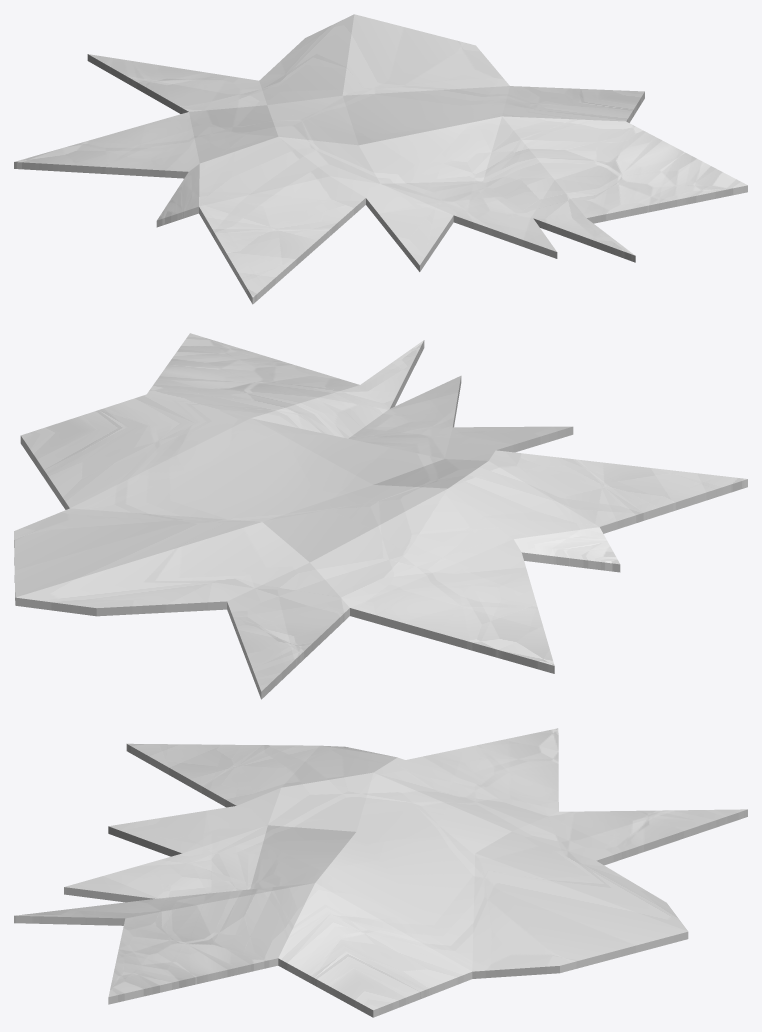
File: G_Papierfetzen02.fbx
3 views of the same model, one above another, from view 1: azimuth 30°, elevation 25°; view 2: azimuth 150°, elevation 25°; view 3: azimuth 270°, elevation 25° (orthographic). The views are drawn at different scales.
Visible parts, largest first — view 1: Papierfetzen02; view 2: Papierfetzen02; view 3: Papierfetzen02.
Boxes of the visible parts, x1=… form: Papierfetzen02: x1=14, y1=14, x2=747, y2=304; Papierfetzen02: x1=14, y1=333, x2=747, y2=699; Papierfetzen02: x1=14, y1=728, x2=747, y2=1017.
Bounding box in the file's own units: 1.1 × 0.1119 × 1.2.
